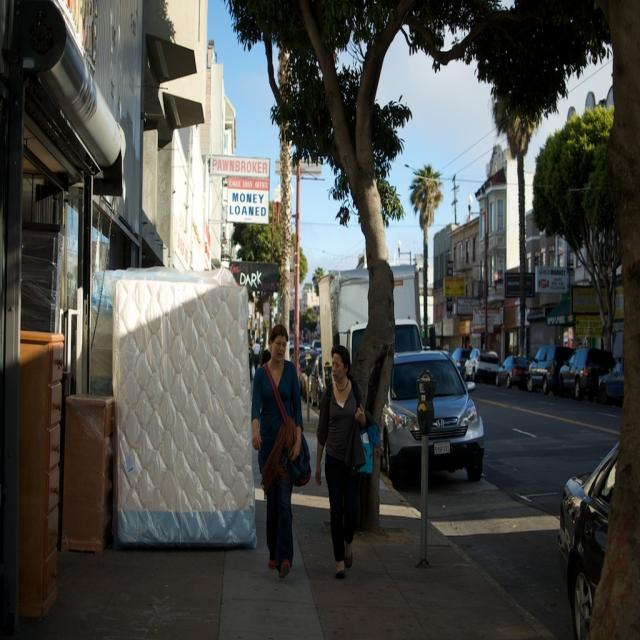car: (376, 345, 486, 489), (556, 435, 625, 632)
